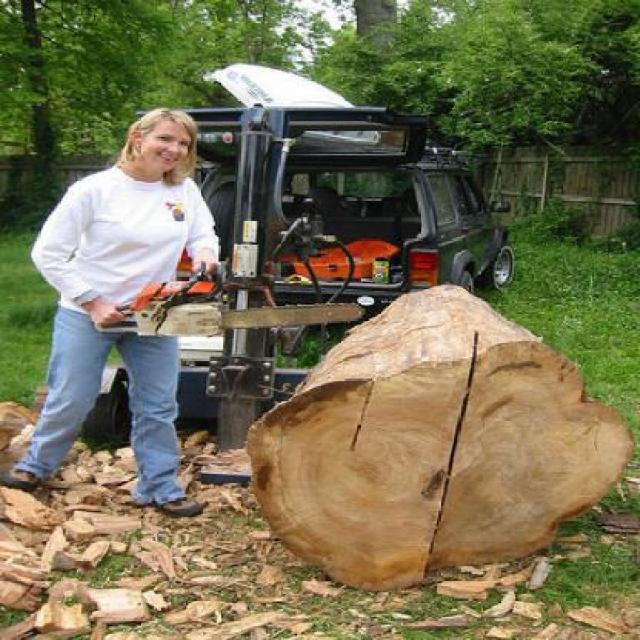Chainsaw: (80, 259, 366, 343)
